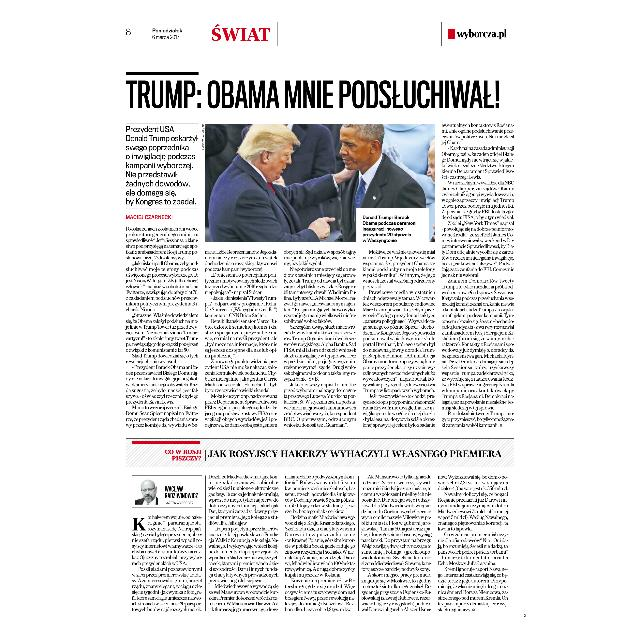article: (123, 70, 519, 433), (123, 438, 513, 620)
